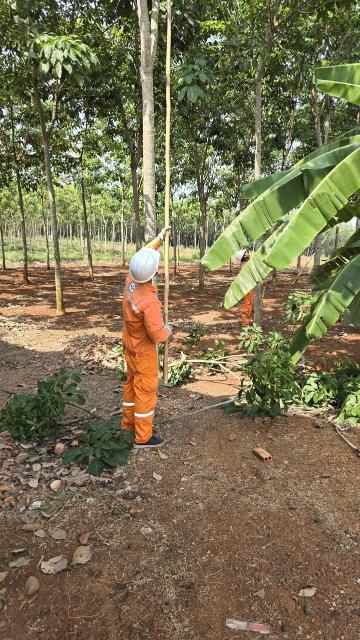gloves: (151, 224, 179, 241), (157, 319, 177, 337)
helmet: (127, 242, 166, 285)
shoes: (129, 435, 175, 452)
